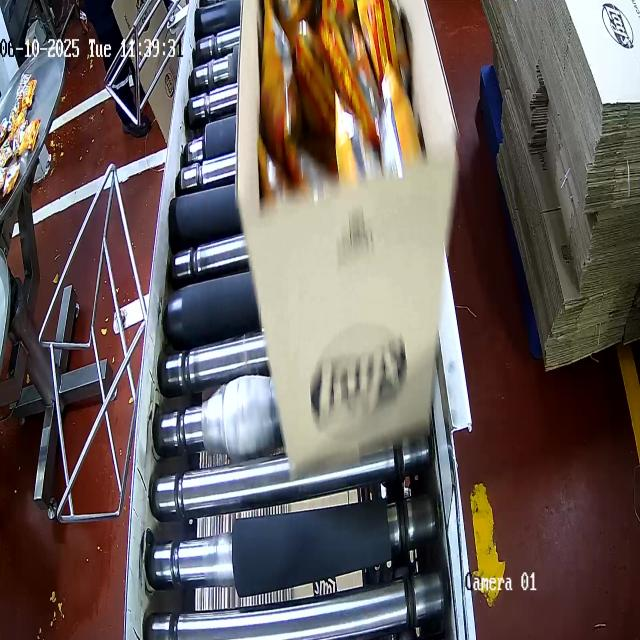FRENCH_CHEESE: (262, 0, 426, 200)
